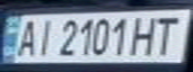0: (90, 15, 112, 56)
1: (109, 15, 133, 56), (75, 16, 96, 56)
2: (54, 16, 78, 57)
A: (12, 17, 42, 59)
H: (127, 12, 163, 56)
I: (30, 16, 57, 57)
T: (148, 12, 187, 56)
